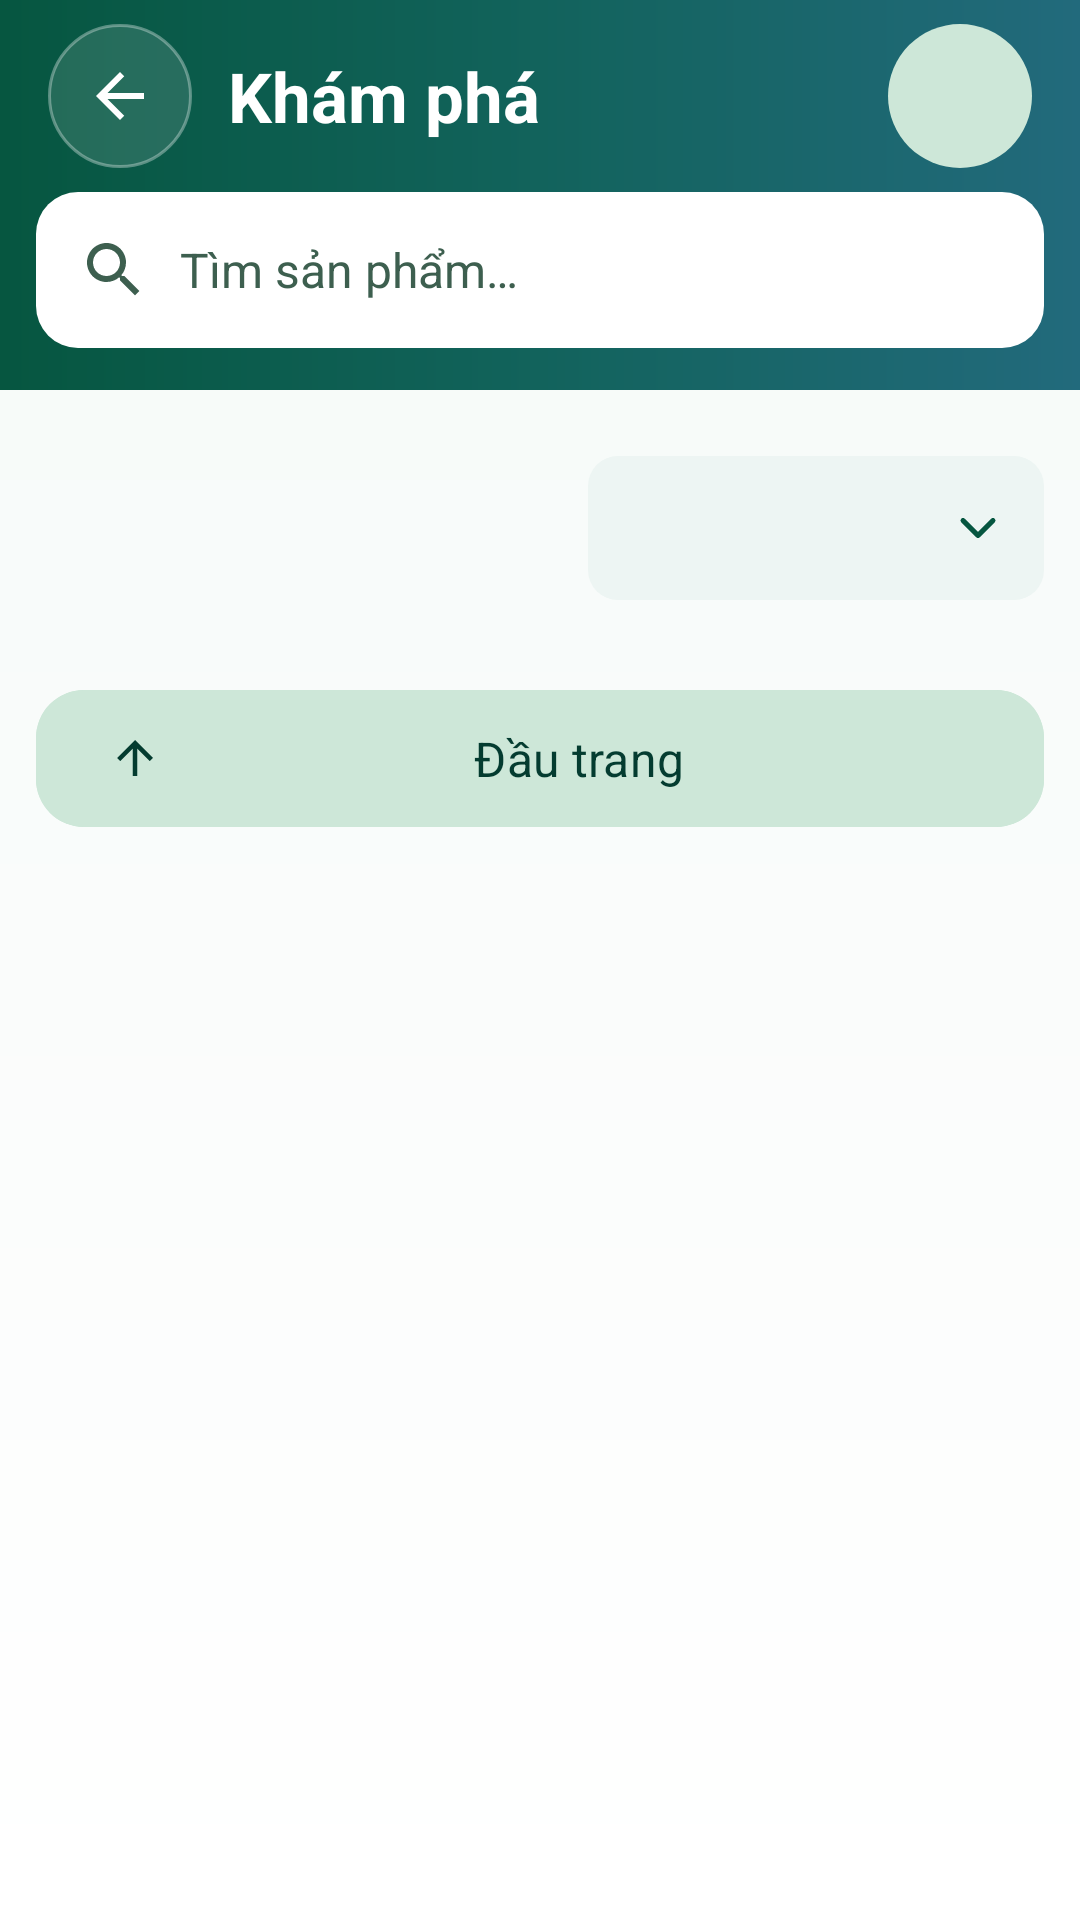

Named icons in this screenshot (1080px×1920px) and their bounding boxes, [x1, y1, x2, y2]:
Quay lại trang chủ: [48, 24, 192, 168]
